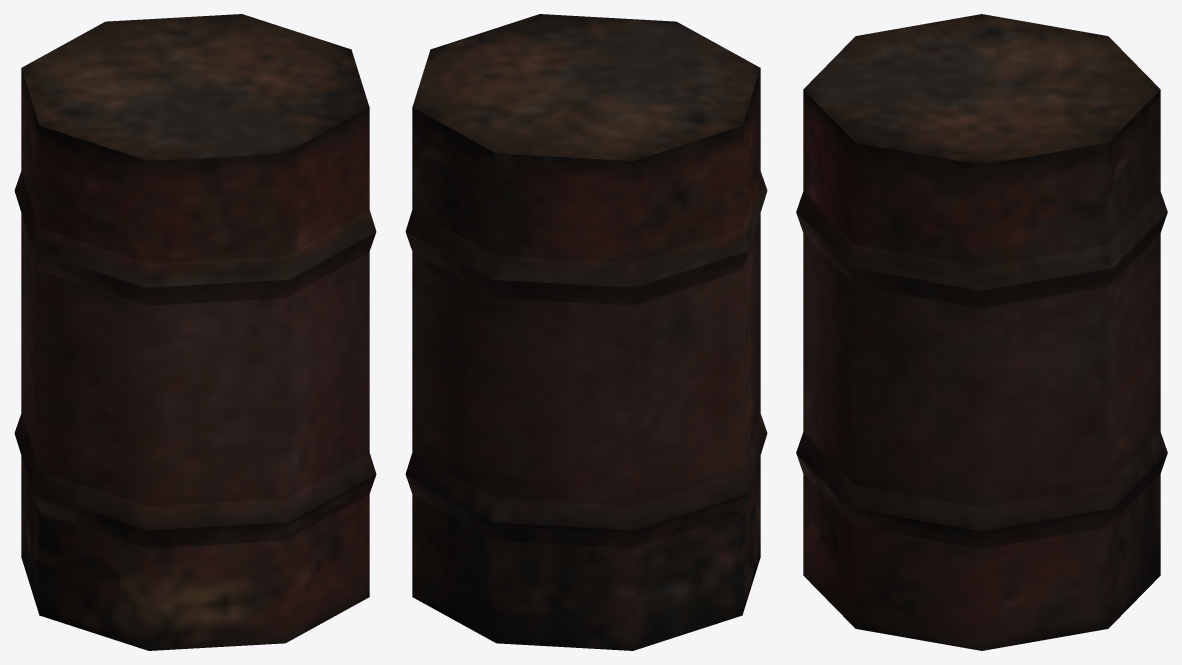
Rendered from metal_barrel_fps_1.obj.
The picture shows the model from 3 angles, left to right: view 1: azimuth 30°, elevation 25°; view 2: azimuth 150°, elevation 25°; view 3: azimuth 270°, elevation 25°; orthographic projection.
Parts seen in each view (by area): view 1: metal_barrel_fps_1; view 2: metal_barrel_fps_1; view 3: metal_barrel_fps_1.
Part boxes in pixels (x1,y1,x2,y2): metal_barrel_fps_1: (14, 14, 376, 650); metal_barrel_fps_1: (405, 14, 767, 650); metal_barrel_fps_1: (796, 14, 1167, 650).
Bounding box in the file's own units: 0.6739 × 0.972 × 0.6739.
